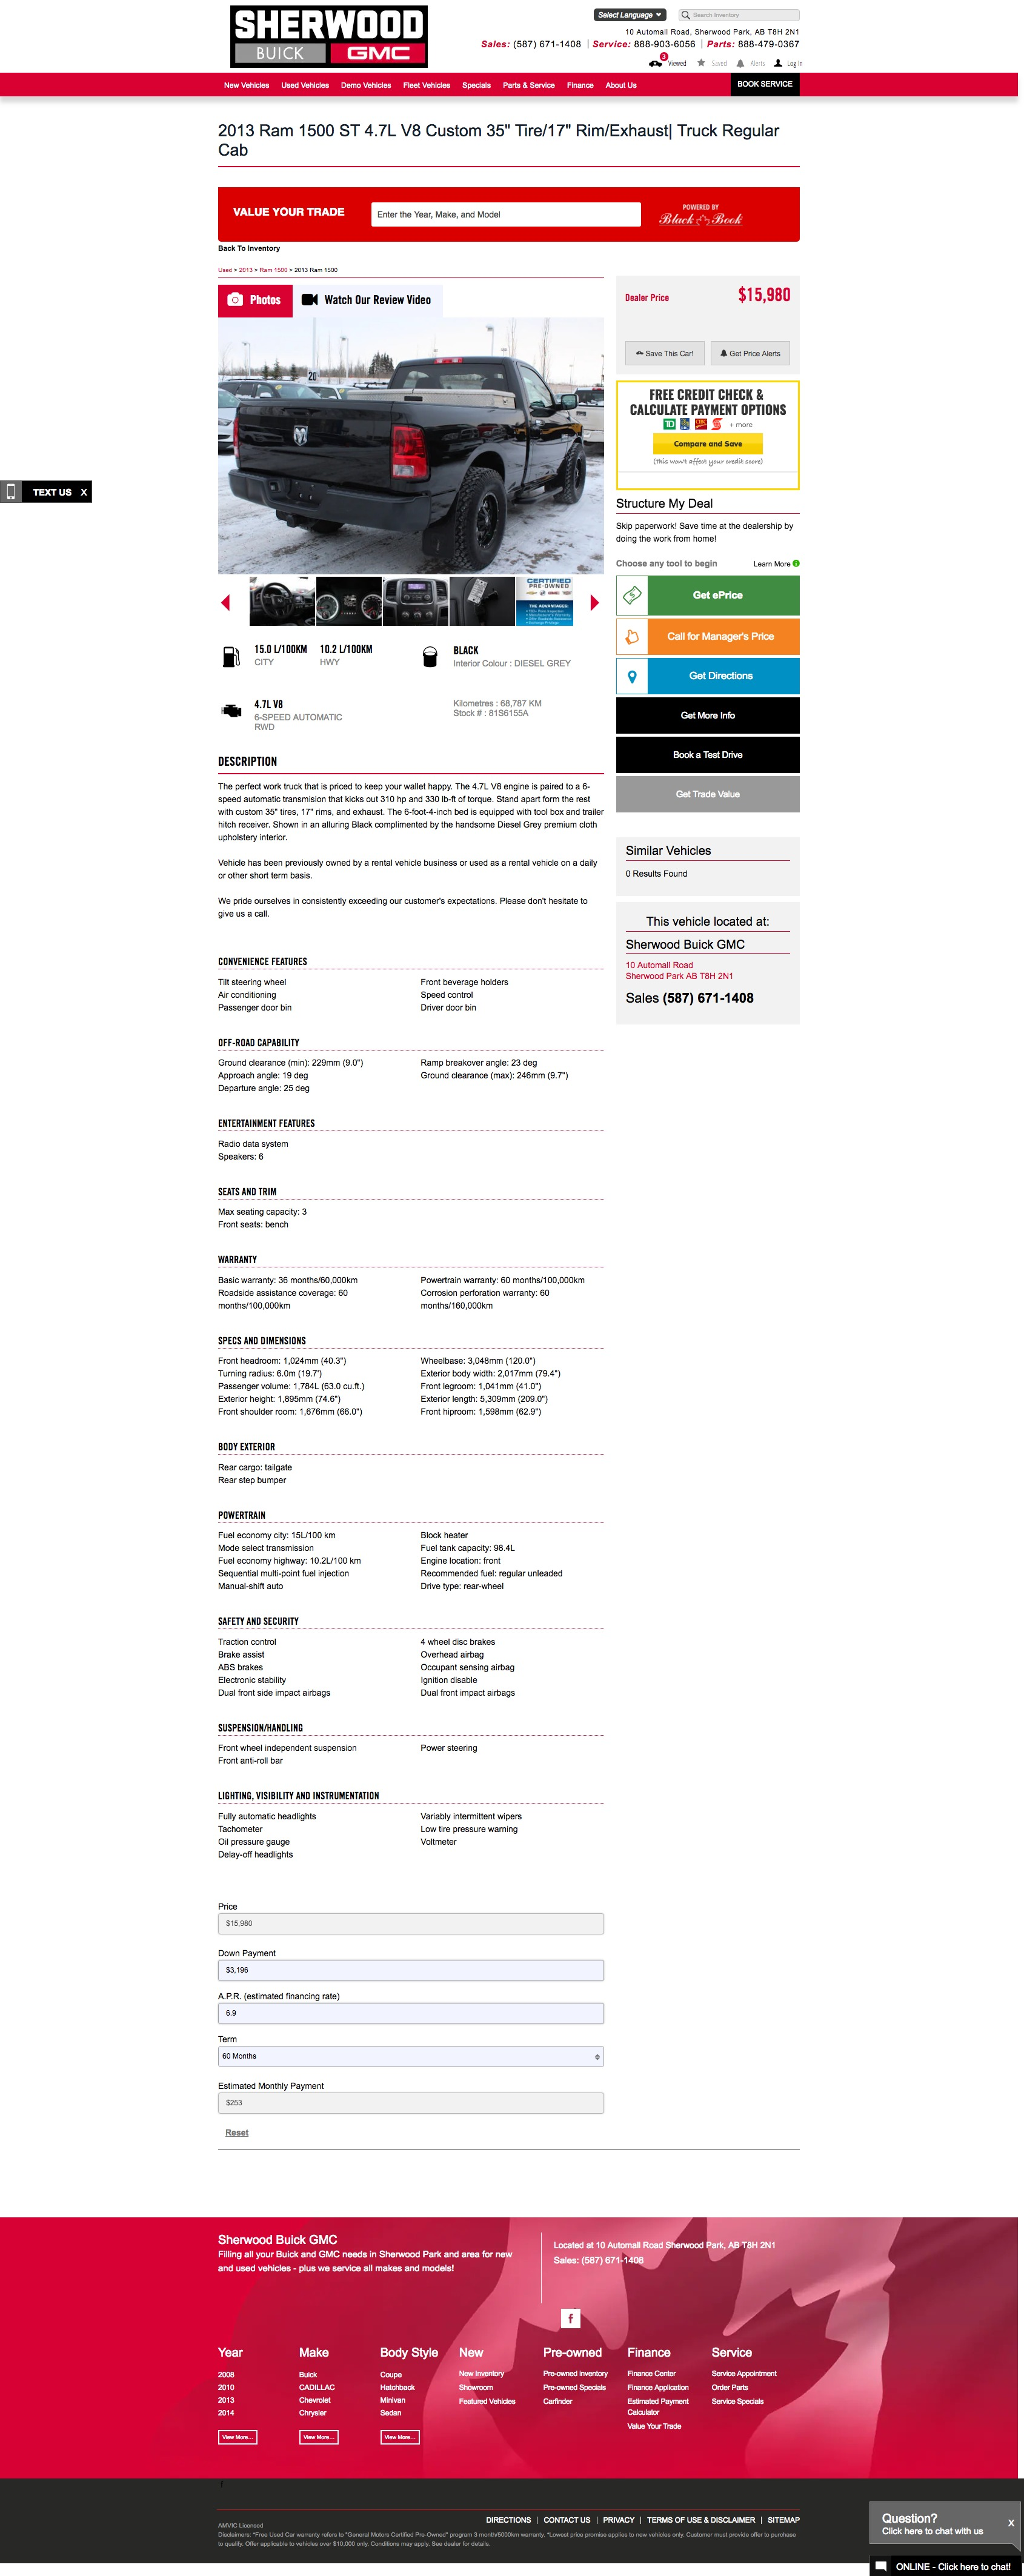car: (590, 595, 602, 611)
